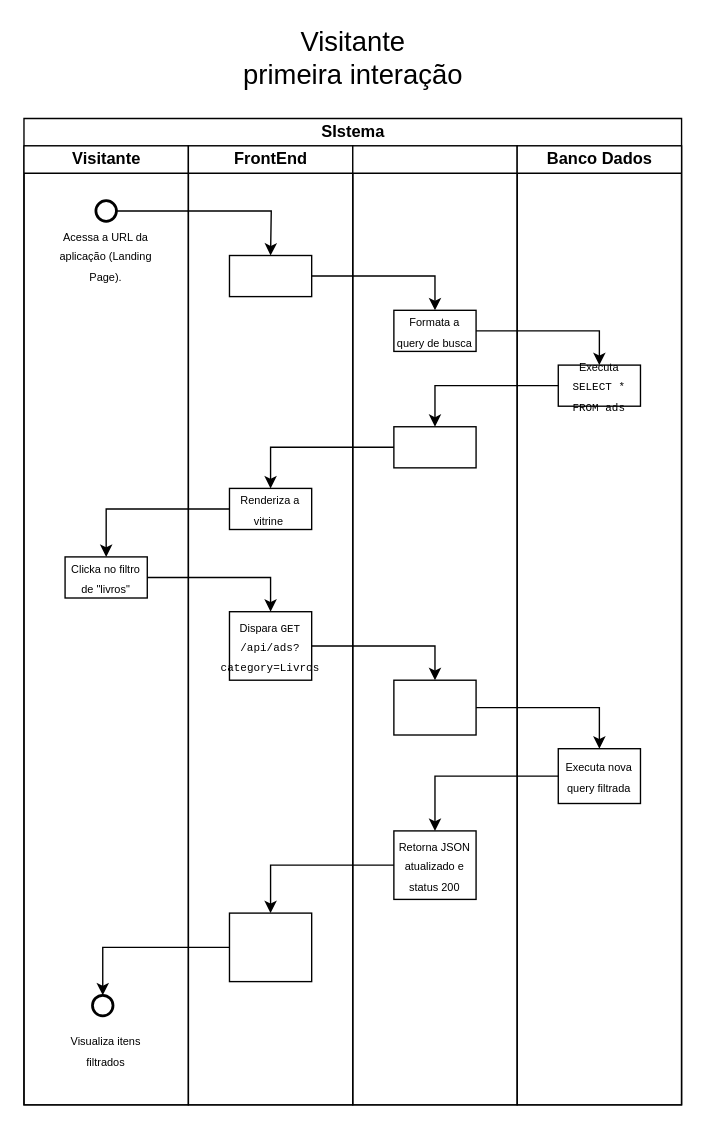
Some shapes in this 706 by 1129 pixel diagram are drawn without their labels. Here are the shapes that lost their labels. From the top down, the box of each, then its label:
(228, 254, 312, 297): Dispara GET /api/ads
(393, 425, 476, 468): Retorna JSON e Status 200
(351, 145, 517, 1105): BackEnd
(393, 679, 476, 735): Filtra com WHERE category='Livros'
(228, 912, 312, 982): Atualiza a interface da vitrine
